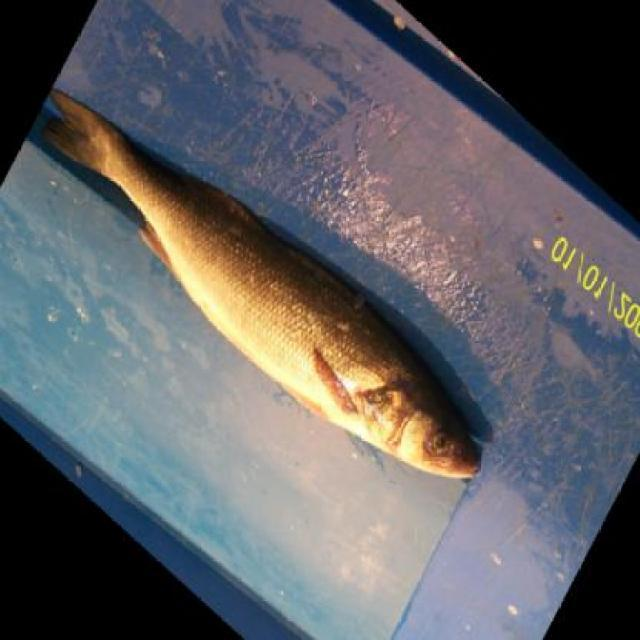Healthy Fish: (30, 83, 493, 481)
